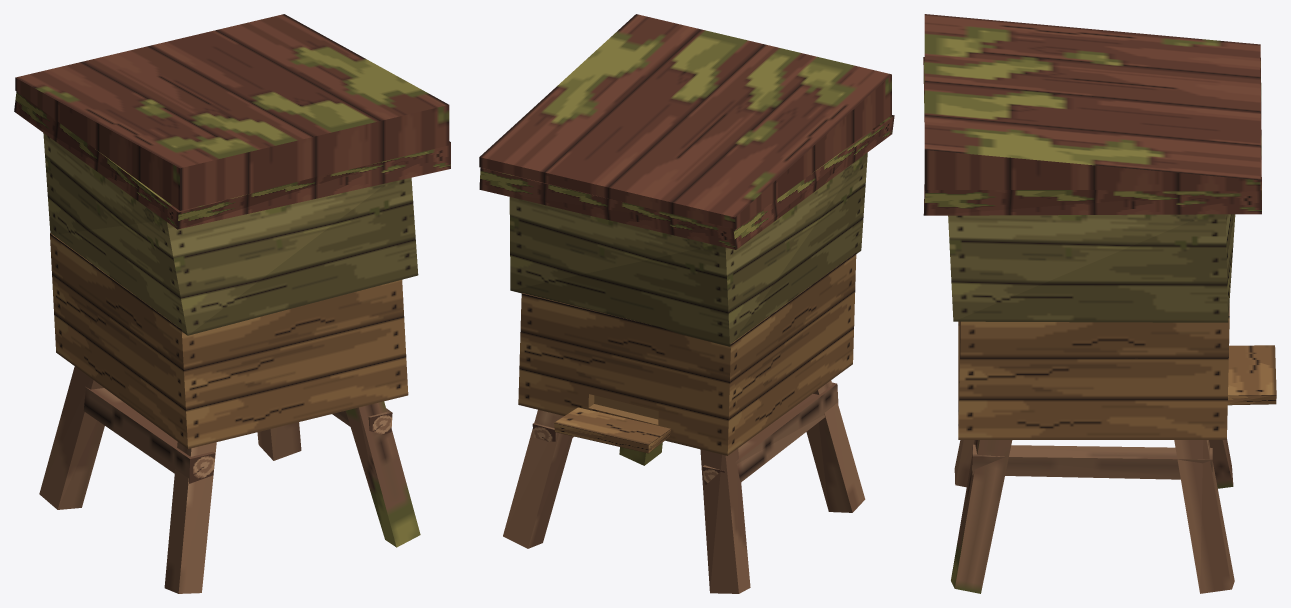
File: SM_SP04_Beehive.fbx
3 views of the same model, side by side, from view 1: azimuth 30°, elevation 25°; view 2: azimuth 150°, elevation 25°; view 3: azimuth 270°, elevation 25° (orthographic). The views are drawn at different scales.
Visible parts, largest first — view 1: SP04_Lid, SP04_BoxLower, SP04_BoxUpper, SP04_Stand; view 2: SP04_Lid, SP04_BoxLower, SP04_BoxUpper, SP04_Stand; view 3: SP04_Lid, SP04_BoxLower, SP04_BoxUpper, SP04_Stand.
Part boxes in pixels (x1=…): SP04_Lid: x1=14, y1=14, x2=450, y2=229; SP04_BoxLower: x1=50, y1=233, x2=408, y2=448; SP04_BoxUpper: x1=43, y1=133, x2=418, y2=335; SP04_Stand: x1=39, y1=366, x2=420, y2=593; SP04_Lid: x1=479, y1=14, x2=894, y2=249; SP04_BoxLower: x1=518, y1=253, x2=856, y2=455; SP04_BoxUpper: x1=509, y1=152, x2=867, y2=346; SP04_Stand: x1=503, y1=380, x2=865, y2=593; SP04_Lid: x1=923, y1=14, x2=1261, y2=215; SP04_BoxLower: x1=958, y1=303, x2=1276, y2=439; SP04_BoxUpper: x1=948, y1=214, x2=1235, y2=322; SP04_Stand: x1=951, y1=439, x2=1234, y2=593.
Size of the model in its own units: 0.6702 by 1.05 by 0.7363.
